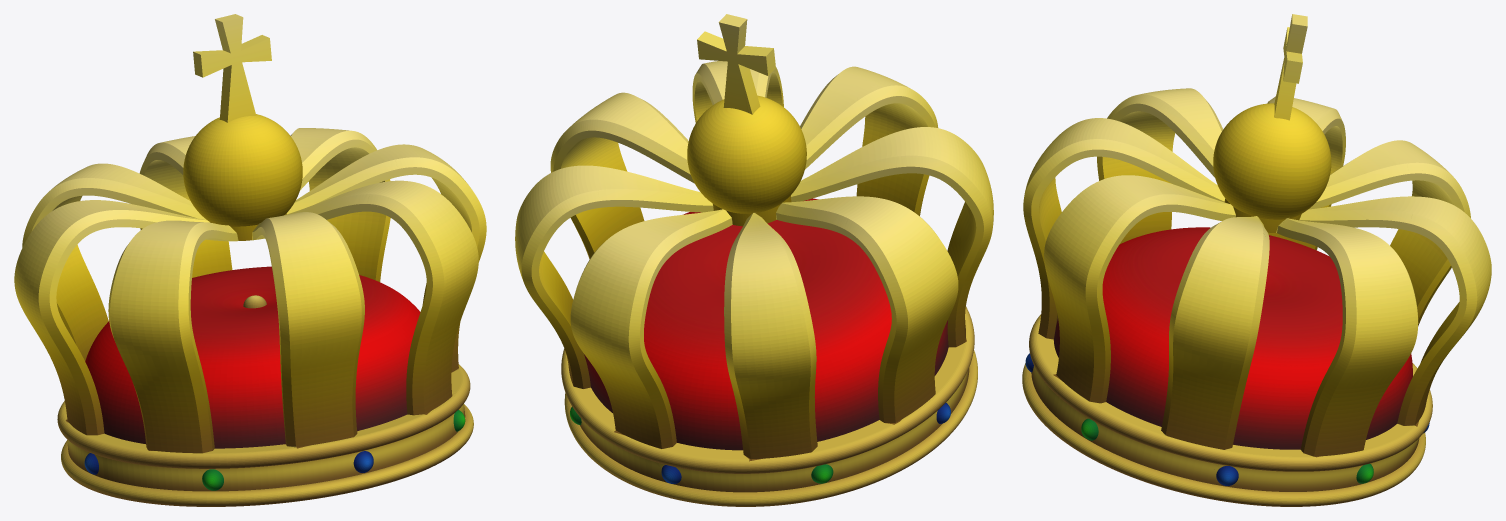
The model's file is crown.fbx.
3 renders of one model, left to right at view 1: azimuth 30°, elevation 25°; view 2: azimuth 150°, elevation 25°; view 3: azimuth 270°, elevation 25°, orthographic.
Parts seen in each view (by area): view 1: Crown; view 2: Crown; view 3: Crown.
Part boxes in pixels (left/top/right/bottom): Crown: left=14, top=14, right=486, bottom=506; Crown: left=515, top=14, right=993, bottom=506; Crown: left=1022, top=14, right=1491, bottom=506.
Bounding box in the file's own units: 1.16 × 1.16 × 1.15.
Materials: 1 (1 with a texture image).
